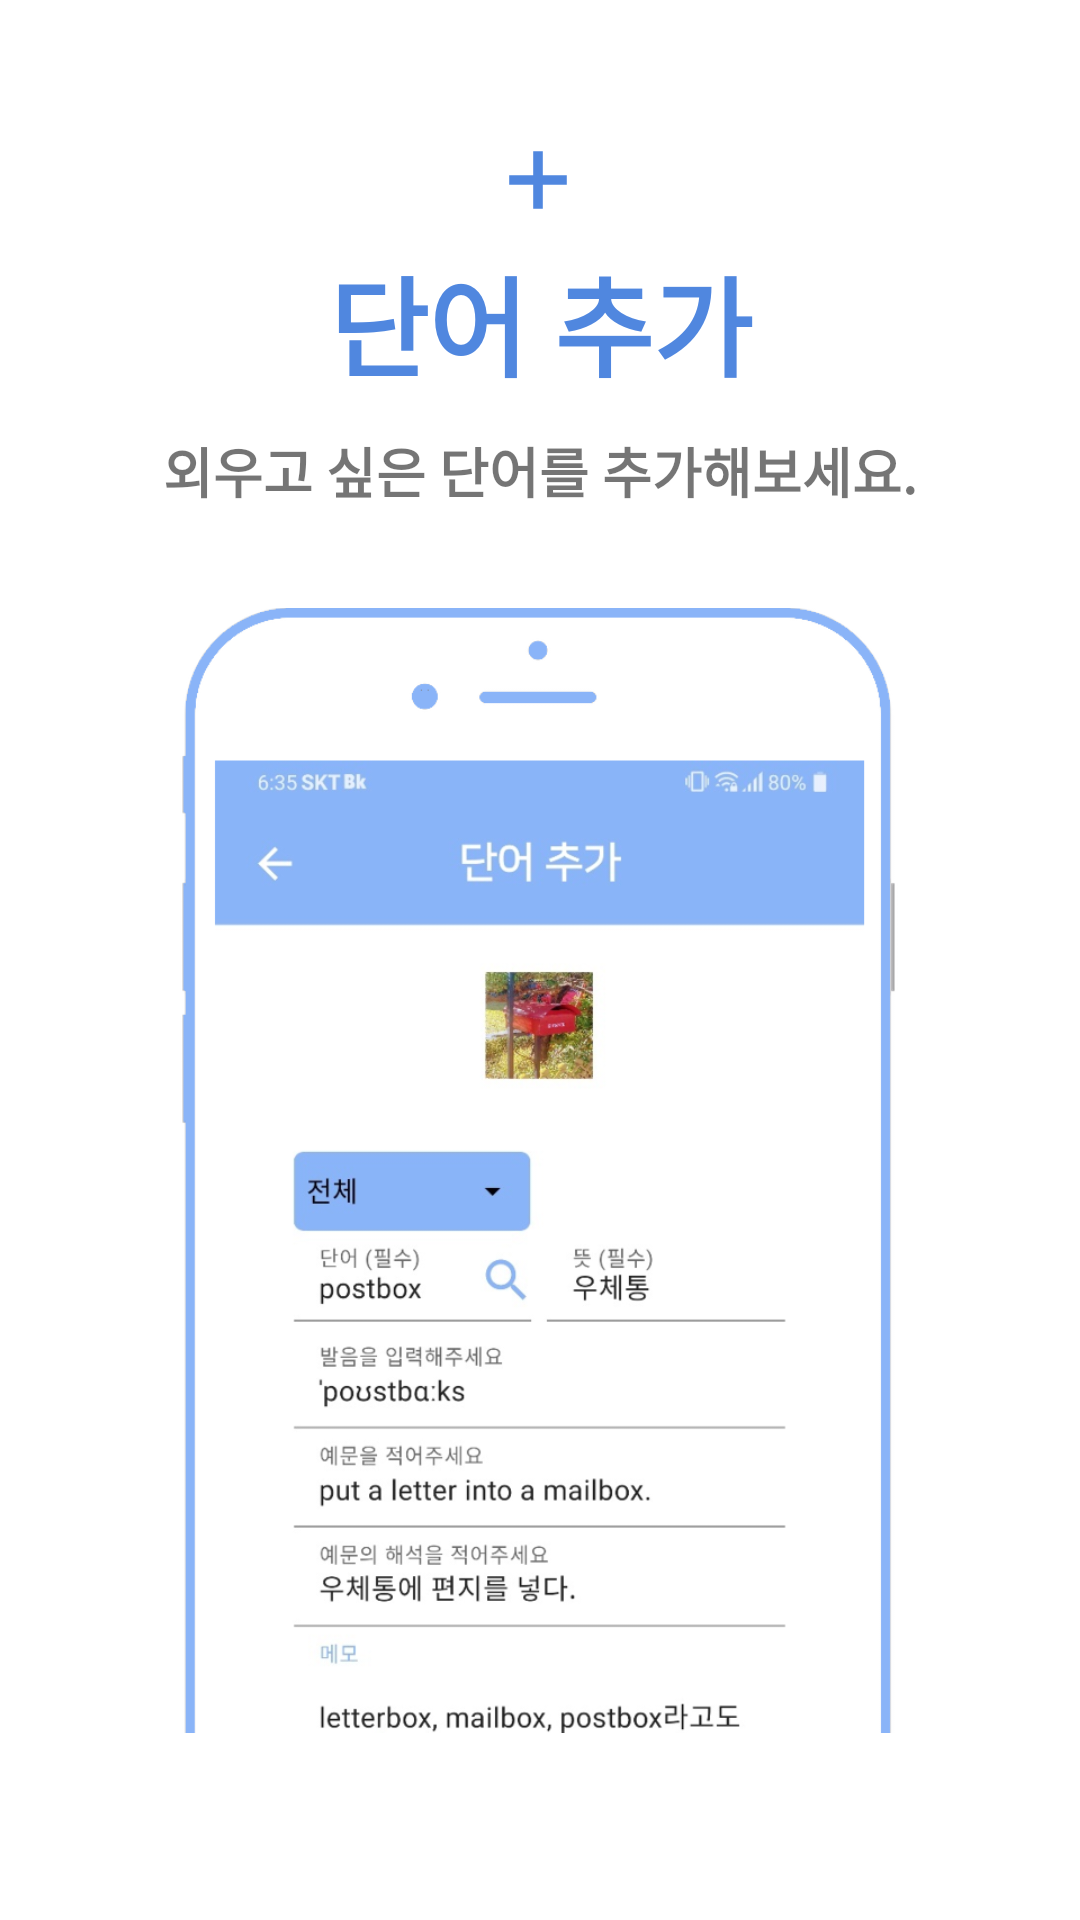

Where to tap for icons on this 1080px x 1920px app screen, as (x=x, y=y):
add: (x=538, y=180)
